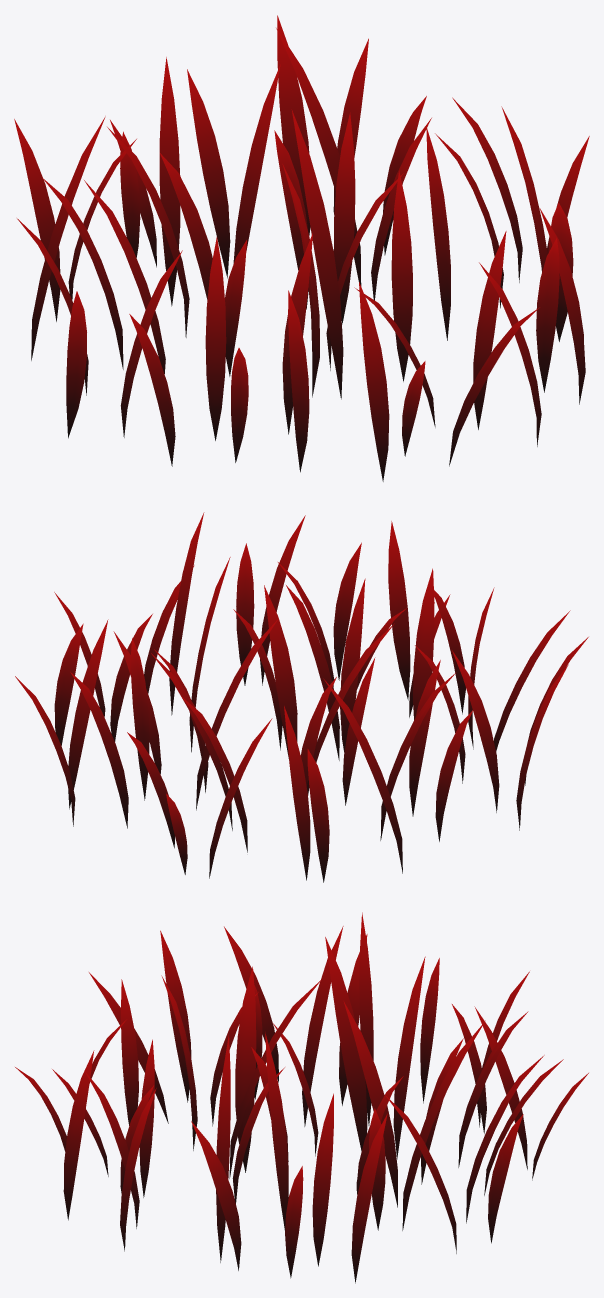
Rendered from grass1.fbx.
3 renders of one model, top to bottom at view 1: azimuth 30°, elevation 25°; view 2: azimuth 150°, elevation 25°; view 3: azimuth 270°, elevation 25°, orthographic. The views are drawn at different scales.
Visible parts, largest first — view 1: Plane.047; view 2: Plane.047; view 3: Plane.047.
Boxes of the visible parts, left/top/right/bottom form: Plane.047: left=14, top=15, right=589, bottom=481; Plane.047: left=15, top=512, right=588, bottom=882; Plane.047: left=15, top=912, right=588, bottom=1283.
Size of the model in its own units: 6.05 by 2.7 by 6.52.
